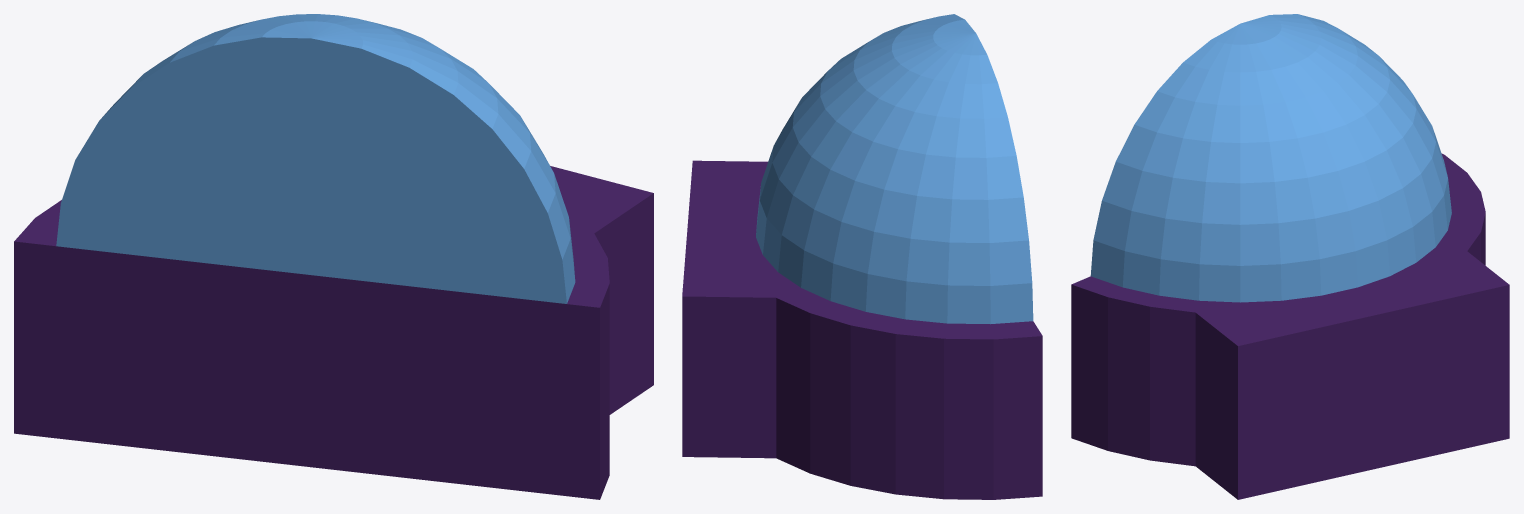
File: Obs.fbx
The picture shows the model from 3 angles, left to right: view 1: azimuth 30°, elevation 25°; view 2: azimuth 150°, elevation 25°; view 3: azimuth 270°, elevation 25°; orthographic projection. The views are drawn at different scales.
Visible parts, largest first — view 1: Obs; view 2: Obs; view 3: Obs.
Part boxes in pixels (<box>): Obs: <box>14,14,653,499</box>; Obs: <box>682,14,1042,499</box>; Obs: <box>1071,14,1509,499</box>.
Size of the model in its own units: 9365 by 7249 by 8390.
